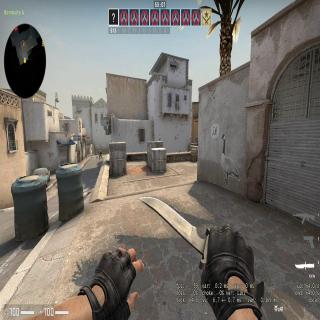CT-Body: (98, 150, 102, 158), (195, 137, 198, 144)
CT-Head: (196, 137, 198, 139), (100, 150, 100, 151)
